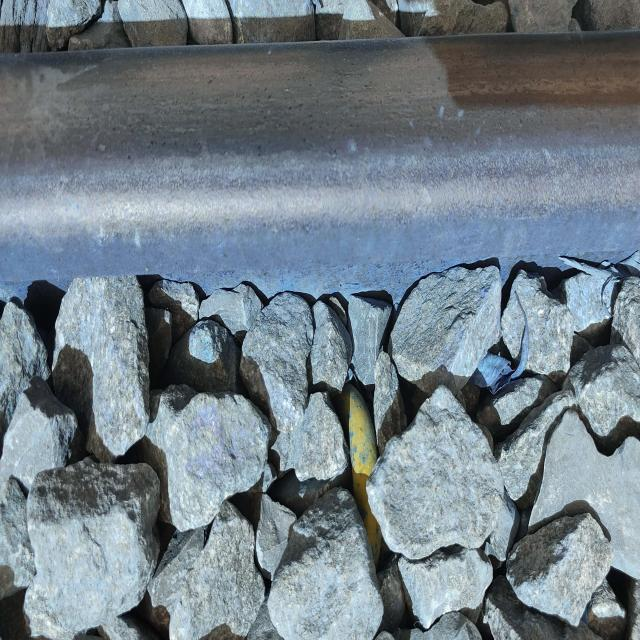Good Fasteners: (339, 382, 382, 564)
